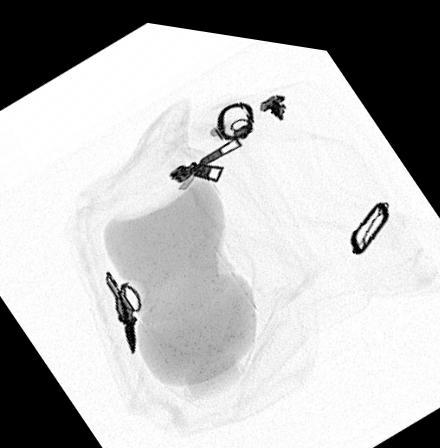Scissors: (101, 268, 141, 351)
